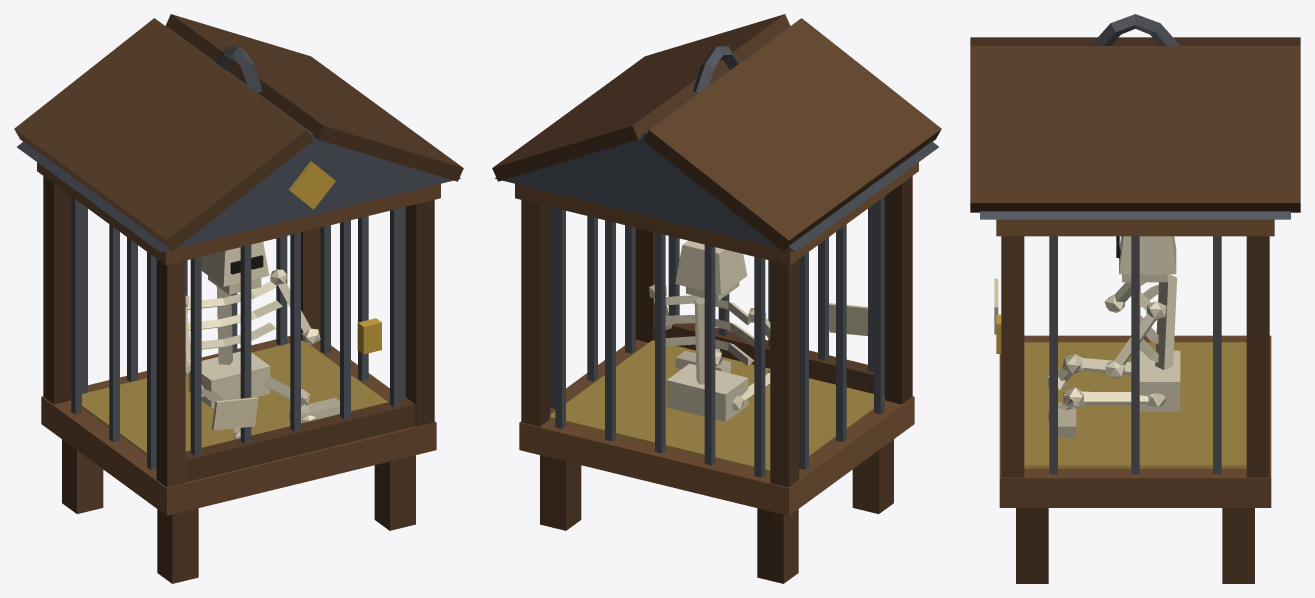
File: cage_skeleton.glb
The picture shows the model from 3 angles, left to right: view 1: azimuth 30°, elevation 25°; view 2: azimuth 150°, elevation 25°; view 3: azimuth 270°, elevation 25°; orthographic projection. The views are drawn at different scales.
Parts seen in each view (by area): view 1: cage_skeleton; view 2: cage_skeleton; view 3: cage_skeleton.
Boxes of the visible parts, x1,y1,x2,y2 form: cage_skeleton: [14, 14, 463, 583]; cage_skeleton: [492, 14, 941, 583]; cage_skeleton: [970, 14, 1300, 583].
Bounding box in the file's own units: 1.15 × 1.7 × 1.01.
